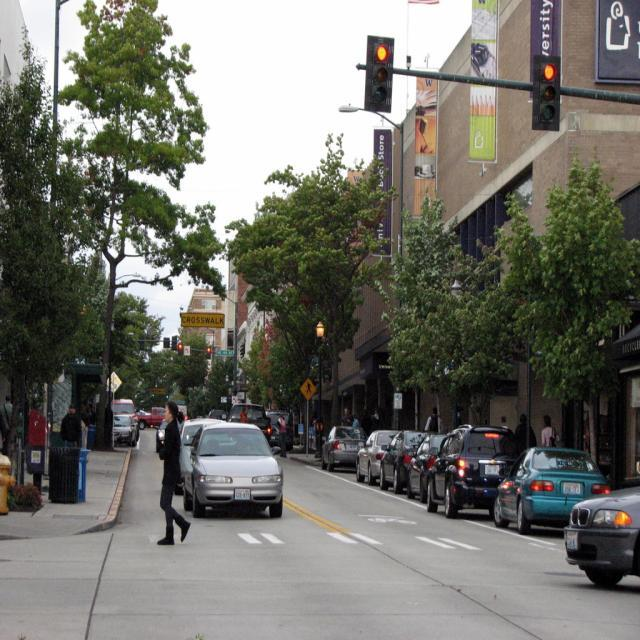traffic light: (528, 53, 563, 134), (365, 34, 394, 110)
